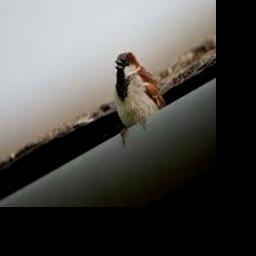Sparrow: (113, 52, 167, 142)
